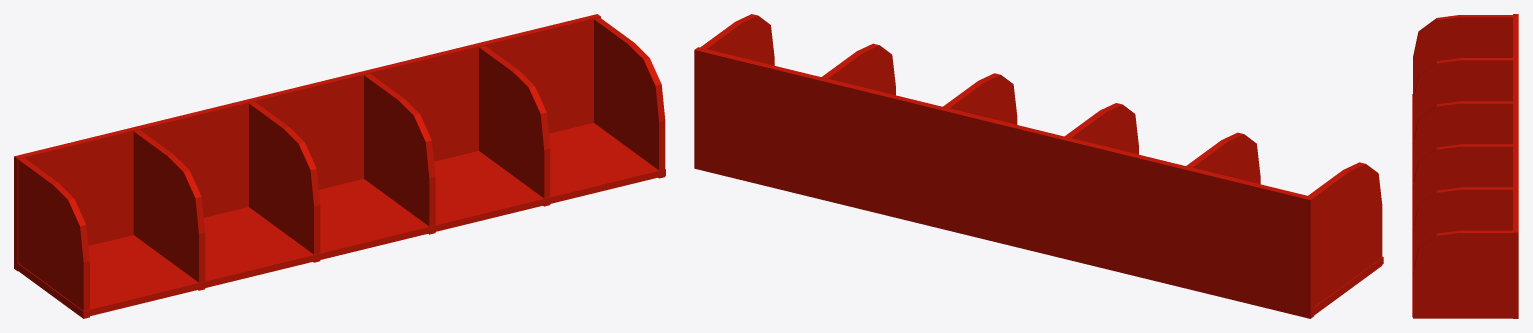
The model's file is UCX_shelf_wood.fbx.
3 renders of one model, left to right at view 1: azimuth 30°, elevation 25°; view 2: azimuth 150°, elevation 25°; view 3: azimuth 270°, elevation 25°, orthographic. The views are drawn at different scales.
Visible parts, largest first — view 1: UCX_shelf_wood; view 2: UCX_shelf_wood; view 3: UCX_shelf_wood.
Boxes of the visible parts, x1,y1,x2,y2 form: UCX_shelf_wood: [14, 14, 665, 318]; UCX_shelf_wood: [694, 14, 1383, 318]; UCX_shelf_wood: [1412, 14, 1518, 318].
Size of the model in its own units: 1.32 by 0.2438 by 0.272.
